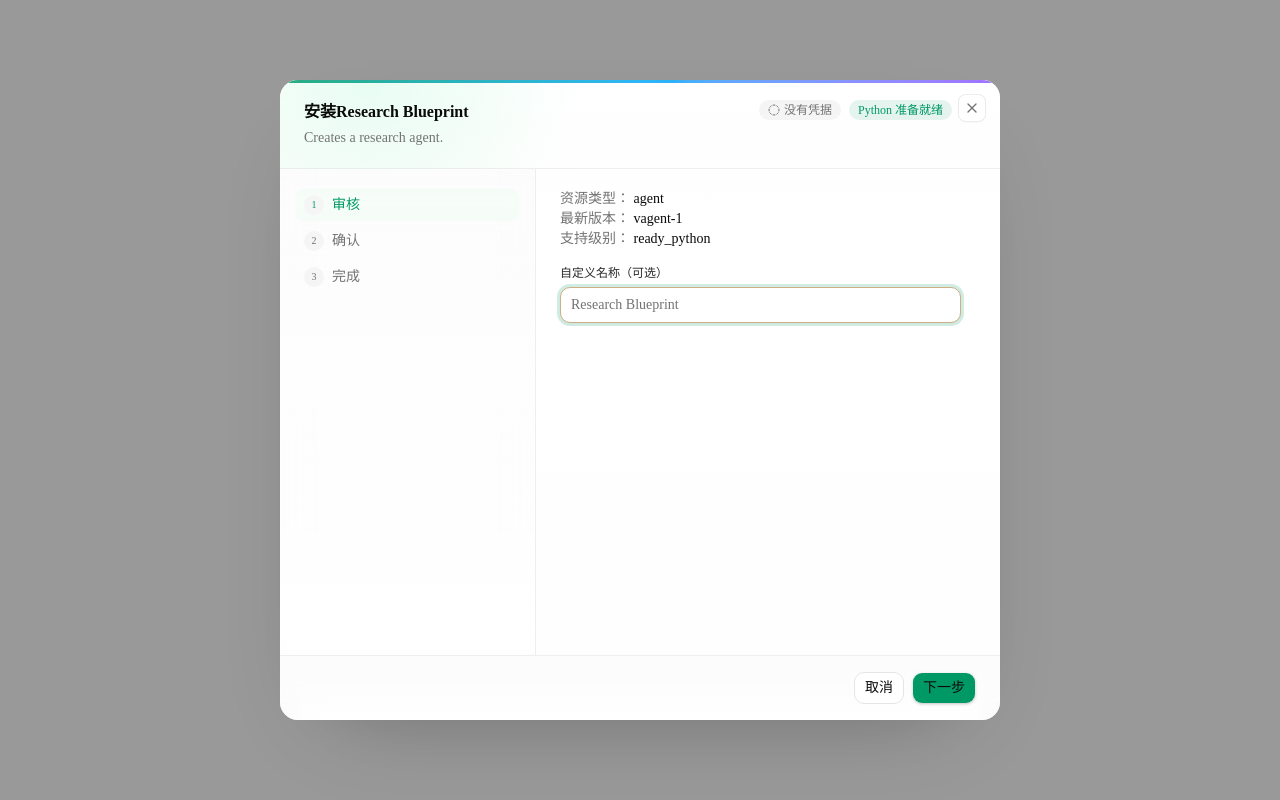
InstallWizard › does not show the create-from-template link for needs_setup agent installs
Click the button "下一步" at (944, 688), box [912,672,976,704]
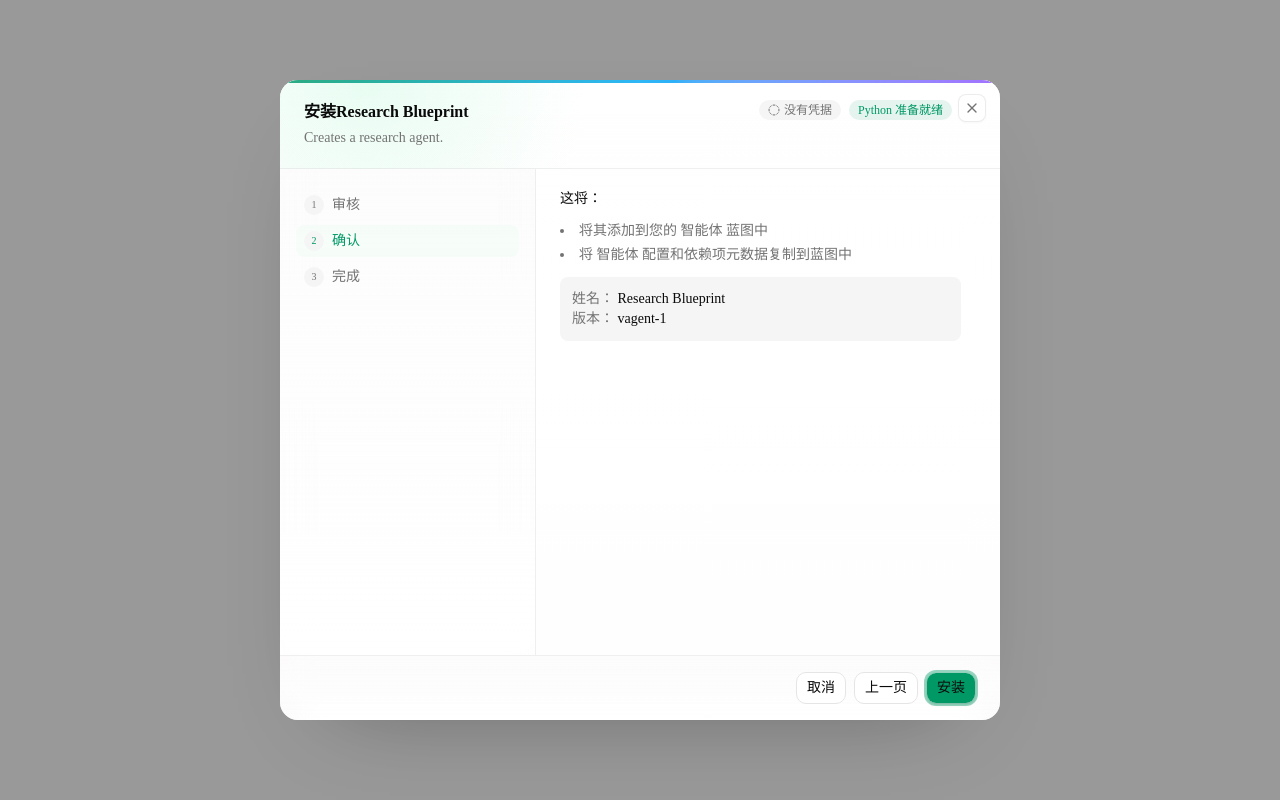
Click the button "安装" at (951, 688), box [926,672,976,704]
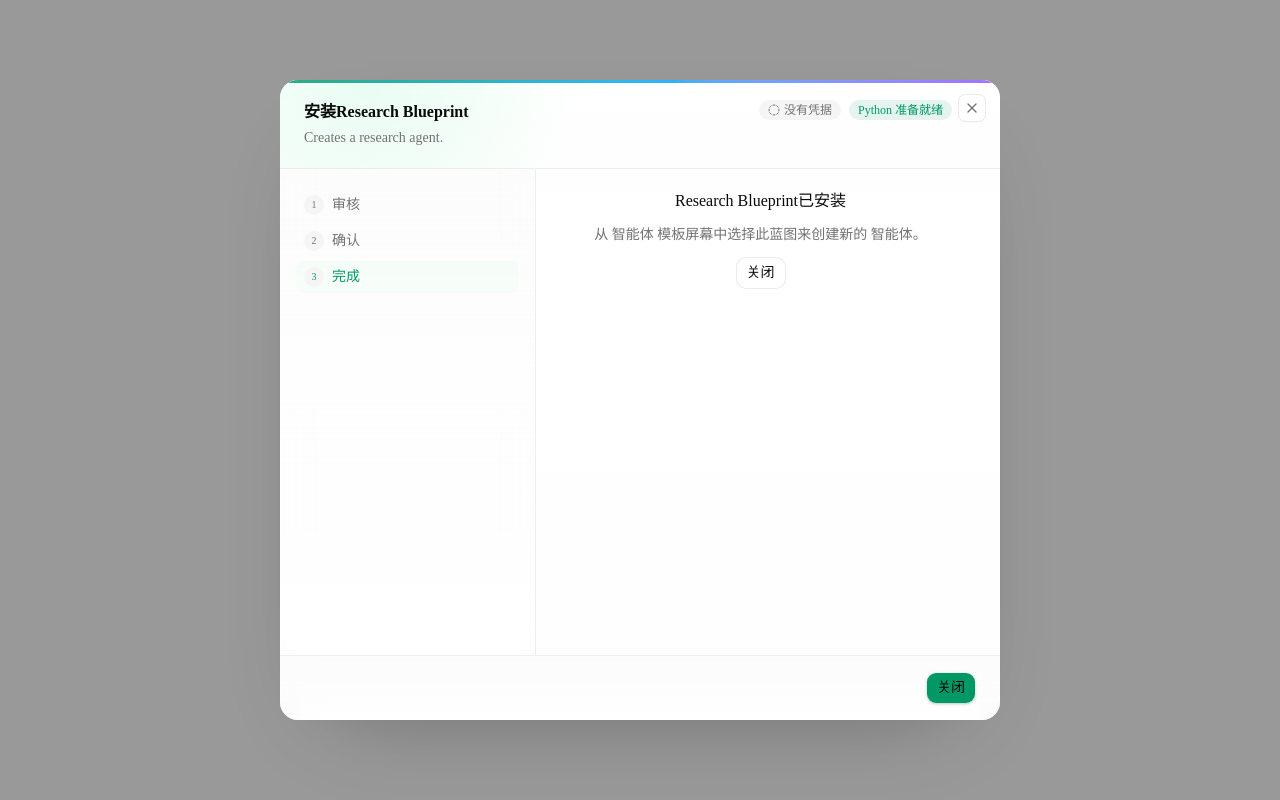
Now the text "Research Blueprint已安装" is shown, box [675,189,846,213]
